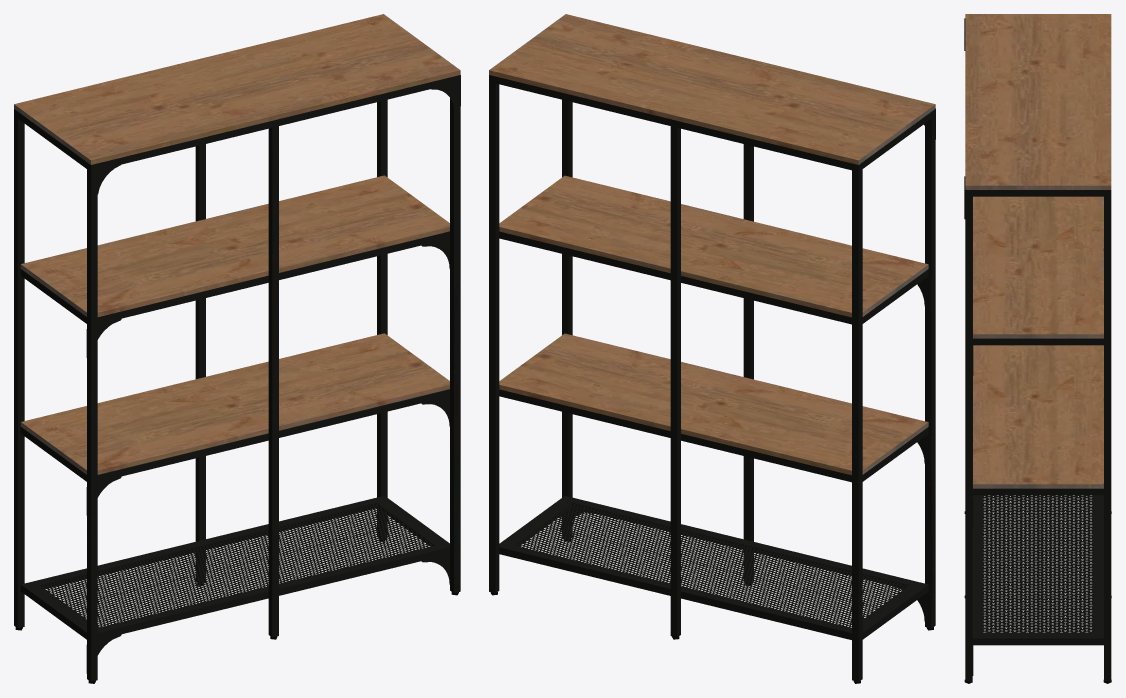
File: 37 - FJÄLLBO - 層架組, 黑色, 100x136 公分 IKEA 線上購物.glb
3 renders of one model, left to right at view 1: azimuth 30°, elevation 25°; view 2: azimuth 150°, elevation 25°; view 3: azimuth 270°, elevation 25°, orthographic. The views are drawn at different scales.
Visible parts, largest first — view 1: Mesh_0; view 2: Mesh_0; view 3: Mesh_0.
Part boxes in pixels (bbox=[...]): Mesh_0: bbox=[14, 14, 460, 683]; Mesh_0: bbox=[489, 14, 935, 683]; Mesh_0: bbox=[964, 14, 1111, 683].
Size of the model in its own units: 1 by 1.35 by 0.3628.
Materials: 1 (1 with a texture image).
